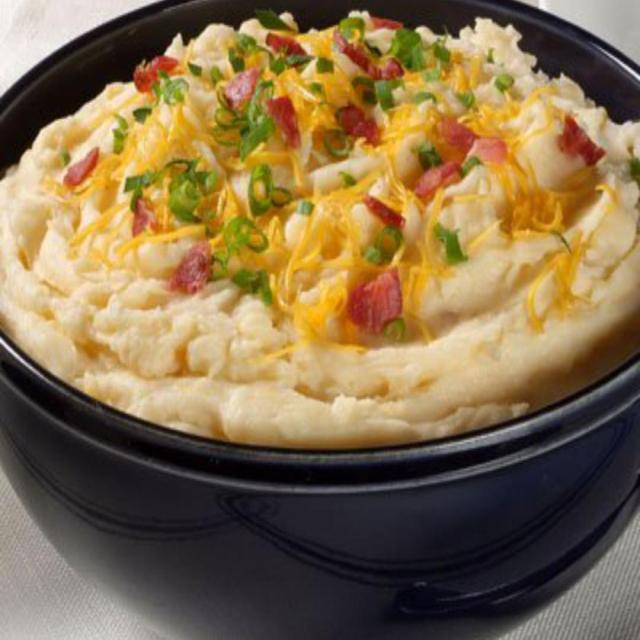papa: (7, 6, 628, 446)
